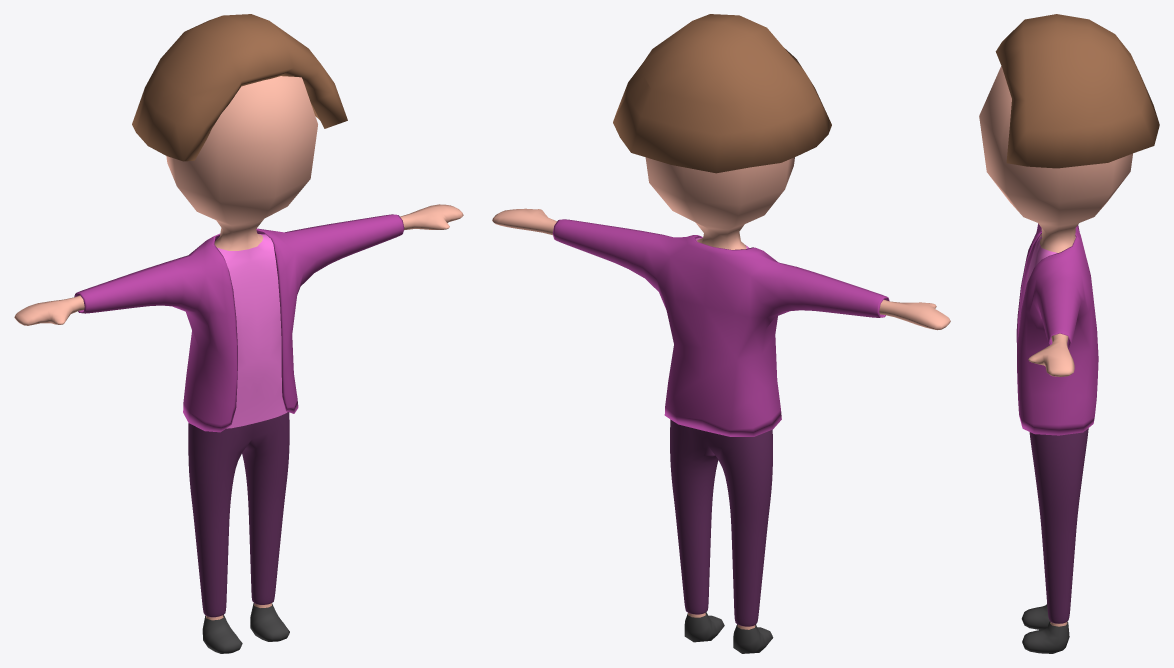
File: body_man3.fbx
The picture shows the model from 3 angles, left to right: view 1: azimuth 30°, elevation 25°; view 2: azimuth 150°, elevation 25°; view 3: azimuth 270°, elevation 25°; orthographic projection.
Parts seen in each view (by area): view 1: shirt_man3, body_man3, hair_man3, pant_man3, shirtinside_man3, shoe_man3; view 2: shirt_man3, hair_man3, pant_man3, body_man3, shoe_man3; view 3: hair_man3, shirt_man3, body_man3, pant_man3, shoe_man3, shirtinside_man3.
Boxes of the visible parts, <box> form: shirt_man3: <box>74,214,404,432</box>; body_man3: <box>14,76,463,620</box>; hair_man3: <box>132,14,347,161</box>; pant_man3: <box>188,412,289,617</box>; shirtinside_man3: <box>217,234,287,428</box>; shoe_man3: <box>202,603,289,653</box>; shirt_man3: <box>552,219,889,436</box>; hair_man3: <box>613,14,831,173</box>; pant_man3: <box>670,419,772,626</box>; body_man3: <box>492,157,950,629</box>; shoe_man3: <box>684,612,773,653</box>; hair_man3: <box>995,14,1159,168</box>; shirt_man3: <box>1016,223,1098,435</box>; body_man3: <box>979,66,1132,626</box>; pant_man3: <box>1029,428,1088,623</box>; shoe_man3: <box>1021,604,1069,653</box>; shirtinside_man3: <box>1026,235,1075,286</box>.
Size of the model in its own units: 156 by 207 by 55.08.
